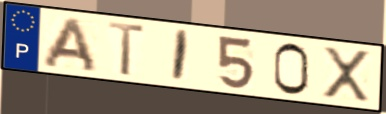0: (271, 41, 311, 97)
5: (215, 33, 257, 91)
A: (39, 15, 100, 74)
I: (169, 28, 192, 84)
T: (105, 19, 149, 78)
X: (320, 44, 372, 104)
